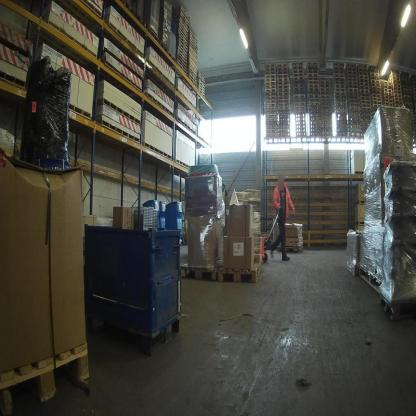pallet: (380, 288, 415, 322), (47, 0, 103, 18), (180, 261, 219, 283), (217, 265, 261, 284), (276, 246, 303, 254), (123, 1, 136, 16), (136, 14, 147, 30), (149, 29, 160, 43), (160, 41, 169, 55), (168, 51, 176, 62), (307, 61, 319, 68), (308, 101, 321, 107), (307, 79, 320, 85), (277, 74, 289, 80), (294, 105, 306, 111), (308, 87, 320, 93), (308, 83, 320, 89), (307, 72, 319, 78), (307, 65, 319, 71), (320, 90, 332, 96), (320, 83, 331, 89), (348, 91, 359, 97), (348, 87, 359, 93), (348, 80, 359, 86), (346, 63, 357, 69), (359, 85, 370, 91), (265, 125, 278, 130), (264, 103, 277, 108), (264, 96, 277, 101), (264, 81, 277, 86), (277, 92, 290, 97), (308, 105, 321, 110), (308, 98, 321, 103), (308, 94, 321, 99), (307, 76, 320, 81), (265, 118, 277, 123), (265, 115, 277, 120), (265, 92, 277, 97), (265, 85, 277, 90), (265, 77, 277, 82), (278, 106, 290, 111), (278, 99, 290, 104), (277, 88, 289, 93), (277, 84, 289, 89), (277, 81, 289, 86), (277, 70, 289, 75), (277, 63, 289, 68), (294, 98, 306, 103), (294, 91, 306, 96), (294, 87, 306, 92), (293, 79, 305, 84), (293, 72, 305, 77), (292, 69, 304, 74), (292, 66, 304, 71), (308, 91, 320, 96), (307, 69, 319, 74), (334, 84, 346, 89), (334, 80, 346, 85), (265, 70, 276, 75), (265, 67, 276, 72), (265, 63, 276, 68), (321, 94, 332, 99), (320, 87, 331, 92), (320, 80, 331, 85), (335, 88, 346, 93), (335, 92, 346, 97), (334, 77, 345, 82), (334, 73, 345, 78), (334, 70, 345, 75), (333, 66, 344, 71), (333, 63, 344, 68), (349, 110, 360, 115), (349, 106, 360, 111), (349, 103, 360, 108), (349, 99, 360, 104), (347, 77, 358, 82), (347, 74, 358, 79), (347, 70, 358, 75), (347, 67, 358, 72), (361, 114, 372, 119), (361, 107, 372, 112), (361, 103, 372, 108), (360, 96, 371, 101), (359, 89, 370, 94), (384, 94, 393, 100), (384, 91, 393, 97), (384, 84, 393, 90), (383, 80, 392, 86), (394, 96, 403, 102), (393, 79, 402, 85), (264, 100, 277, 104), (348, 84, 358, 89), (360, 93, 370, 98), (359, 78, 369, 83), (359, 75, 369, 80), (359, 71, 369, 76), (358, 68, 368, 73), (372, 93, 382, 98), (371, 82, 381, 87), (370, 76, 380, 81), (370, 72, 380, 77), (394, 100, 404, 105), (266, 133, 278, 137), (266, 130, 278, 134), (265, 122, 277, 126), (265, 111, 277, 115), (265, 108, 277, 112), (265, 89, 277, 93), (265, 74, 277, 78), (278, 103, 290, 107), (278, 96, 290, 100), (277, 78, 289, 82), (277, 67, 289, 71), (294, 102, 306, 106), (294, 95, 306, 99), (293, 76, 305, 80), (291, 63, 303, 67), (405, 102, 413, 108), (404, 95, 412, 101), (404, 91, 412, 97), (403, 78, 411, 84), (372, 86, 381, 91), (371, 79, 380, 84), (385, 102, 394, 107), (384, 88, 393, 93), (394, 93, 403, 98), (393, 87, 402, 92), (393, 83, 402, 88), (392, 76, 401, 81), (294, 84, 305, 88), (361, 111, 372, 115), (349, 96, 359, 100), (361, 100, 371, 104), (359, 82, 369, 86), (358, 65, 368, 69), (373, 104, 383, 108), (373, 101, 383, 105), (372, 97, 382, 101), (372, 90, 382, 94), (385, 98, 393, 103), (392, 73, 400, 78), (404, 88, 412, 93), (403, 85, 411, 90), (403, 82, 411, 87), (394, 90, 402, 94), (405, 99, 413, 103), (395, 104, 402, 108)
pallet_truck: (261, 203, 283, 263)
